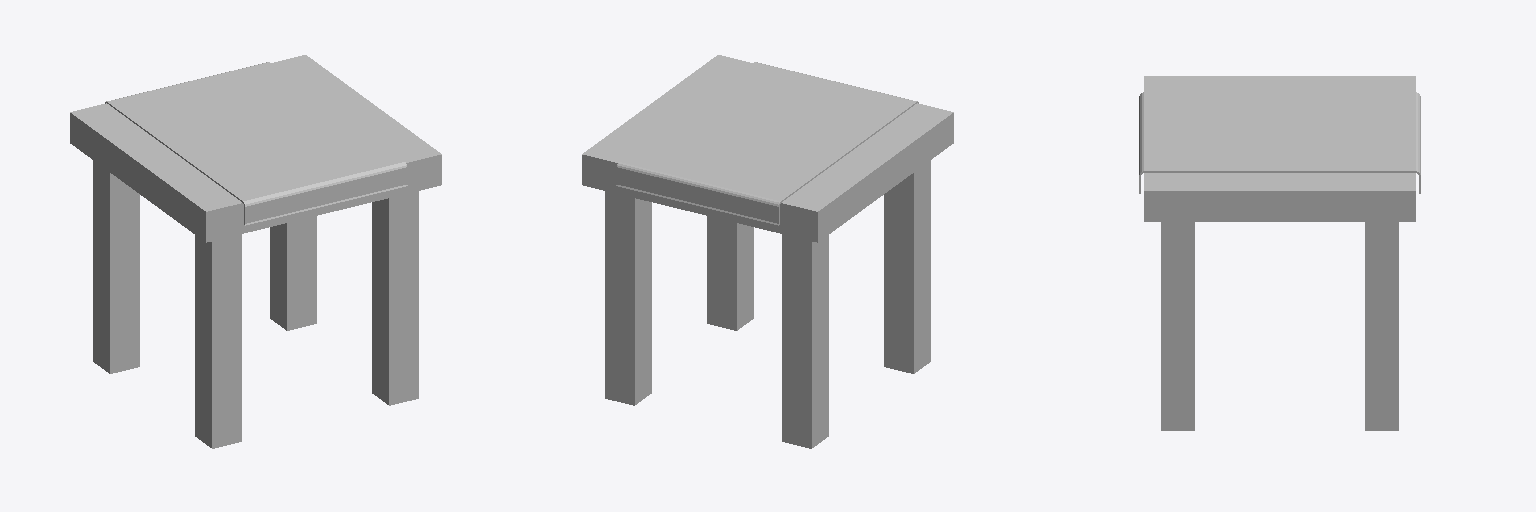
The model's file is tablecloth.obj.
3 views of the same model, side by side, from view 1: azimuth 30°, elevation 25°; view 2: azimuth 150°, elevation 25°; view 3: azimuth 270°, elevation 25° (orthographic).
Parts seen in each view (by area): view 1: cube.005, cube, cube.003, cube.004, cube.001, cube.002, cube.014; view 2: cube.005, cube, cube.001, cube.002, cube.003, cube.004, cube.015; view 3: cube.005, cube, cube.002, cube.004.
Part boxes in pixels (left/top/right/bottom): cube.005: left=107, top=62, right=404, bottom=202; cube: left=70, top=55, right=441, bottom=242; cube.003: left=195, top=234, right=241, bottom=448; cube.004: left=372, top=191, right=418, bottom=405; cube.001: left=93, top=160, right=139, bottom=373; cube.002: left=270, top=216, right=316, bottom=330; cube.014: left=244, top=167, right=406, bottom=223; cube.005: left=619, top=62, right=916, bottom=202; cube: left=582, top=55, right=953, bottom=242; cube.001: left=782, top=234, right=828, bottom=448; cube.002: left=605, top=191, right=651, bottom=405; cube.003: left=884, top=160, right=930, bottom=373; cube.004: left=707, top=216, right=753, bottom=330; cube.015: left=617, top=167, right=779, bottom=223; cube.005: left=1144, top=92, right=1415, bottom=172; cube: left=1144, top=76, right=1415, bottom=221; cube.002: left=1365, top=222, right=1398, bottom=430; cube.004: left=1161, top=222, right=1194, bottom=430.
Bounding box in the file's own units: 1 × 1.01 × 1.04.